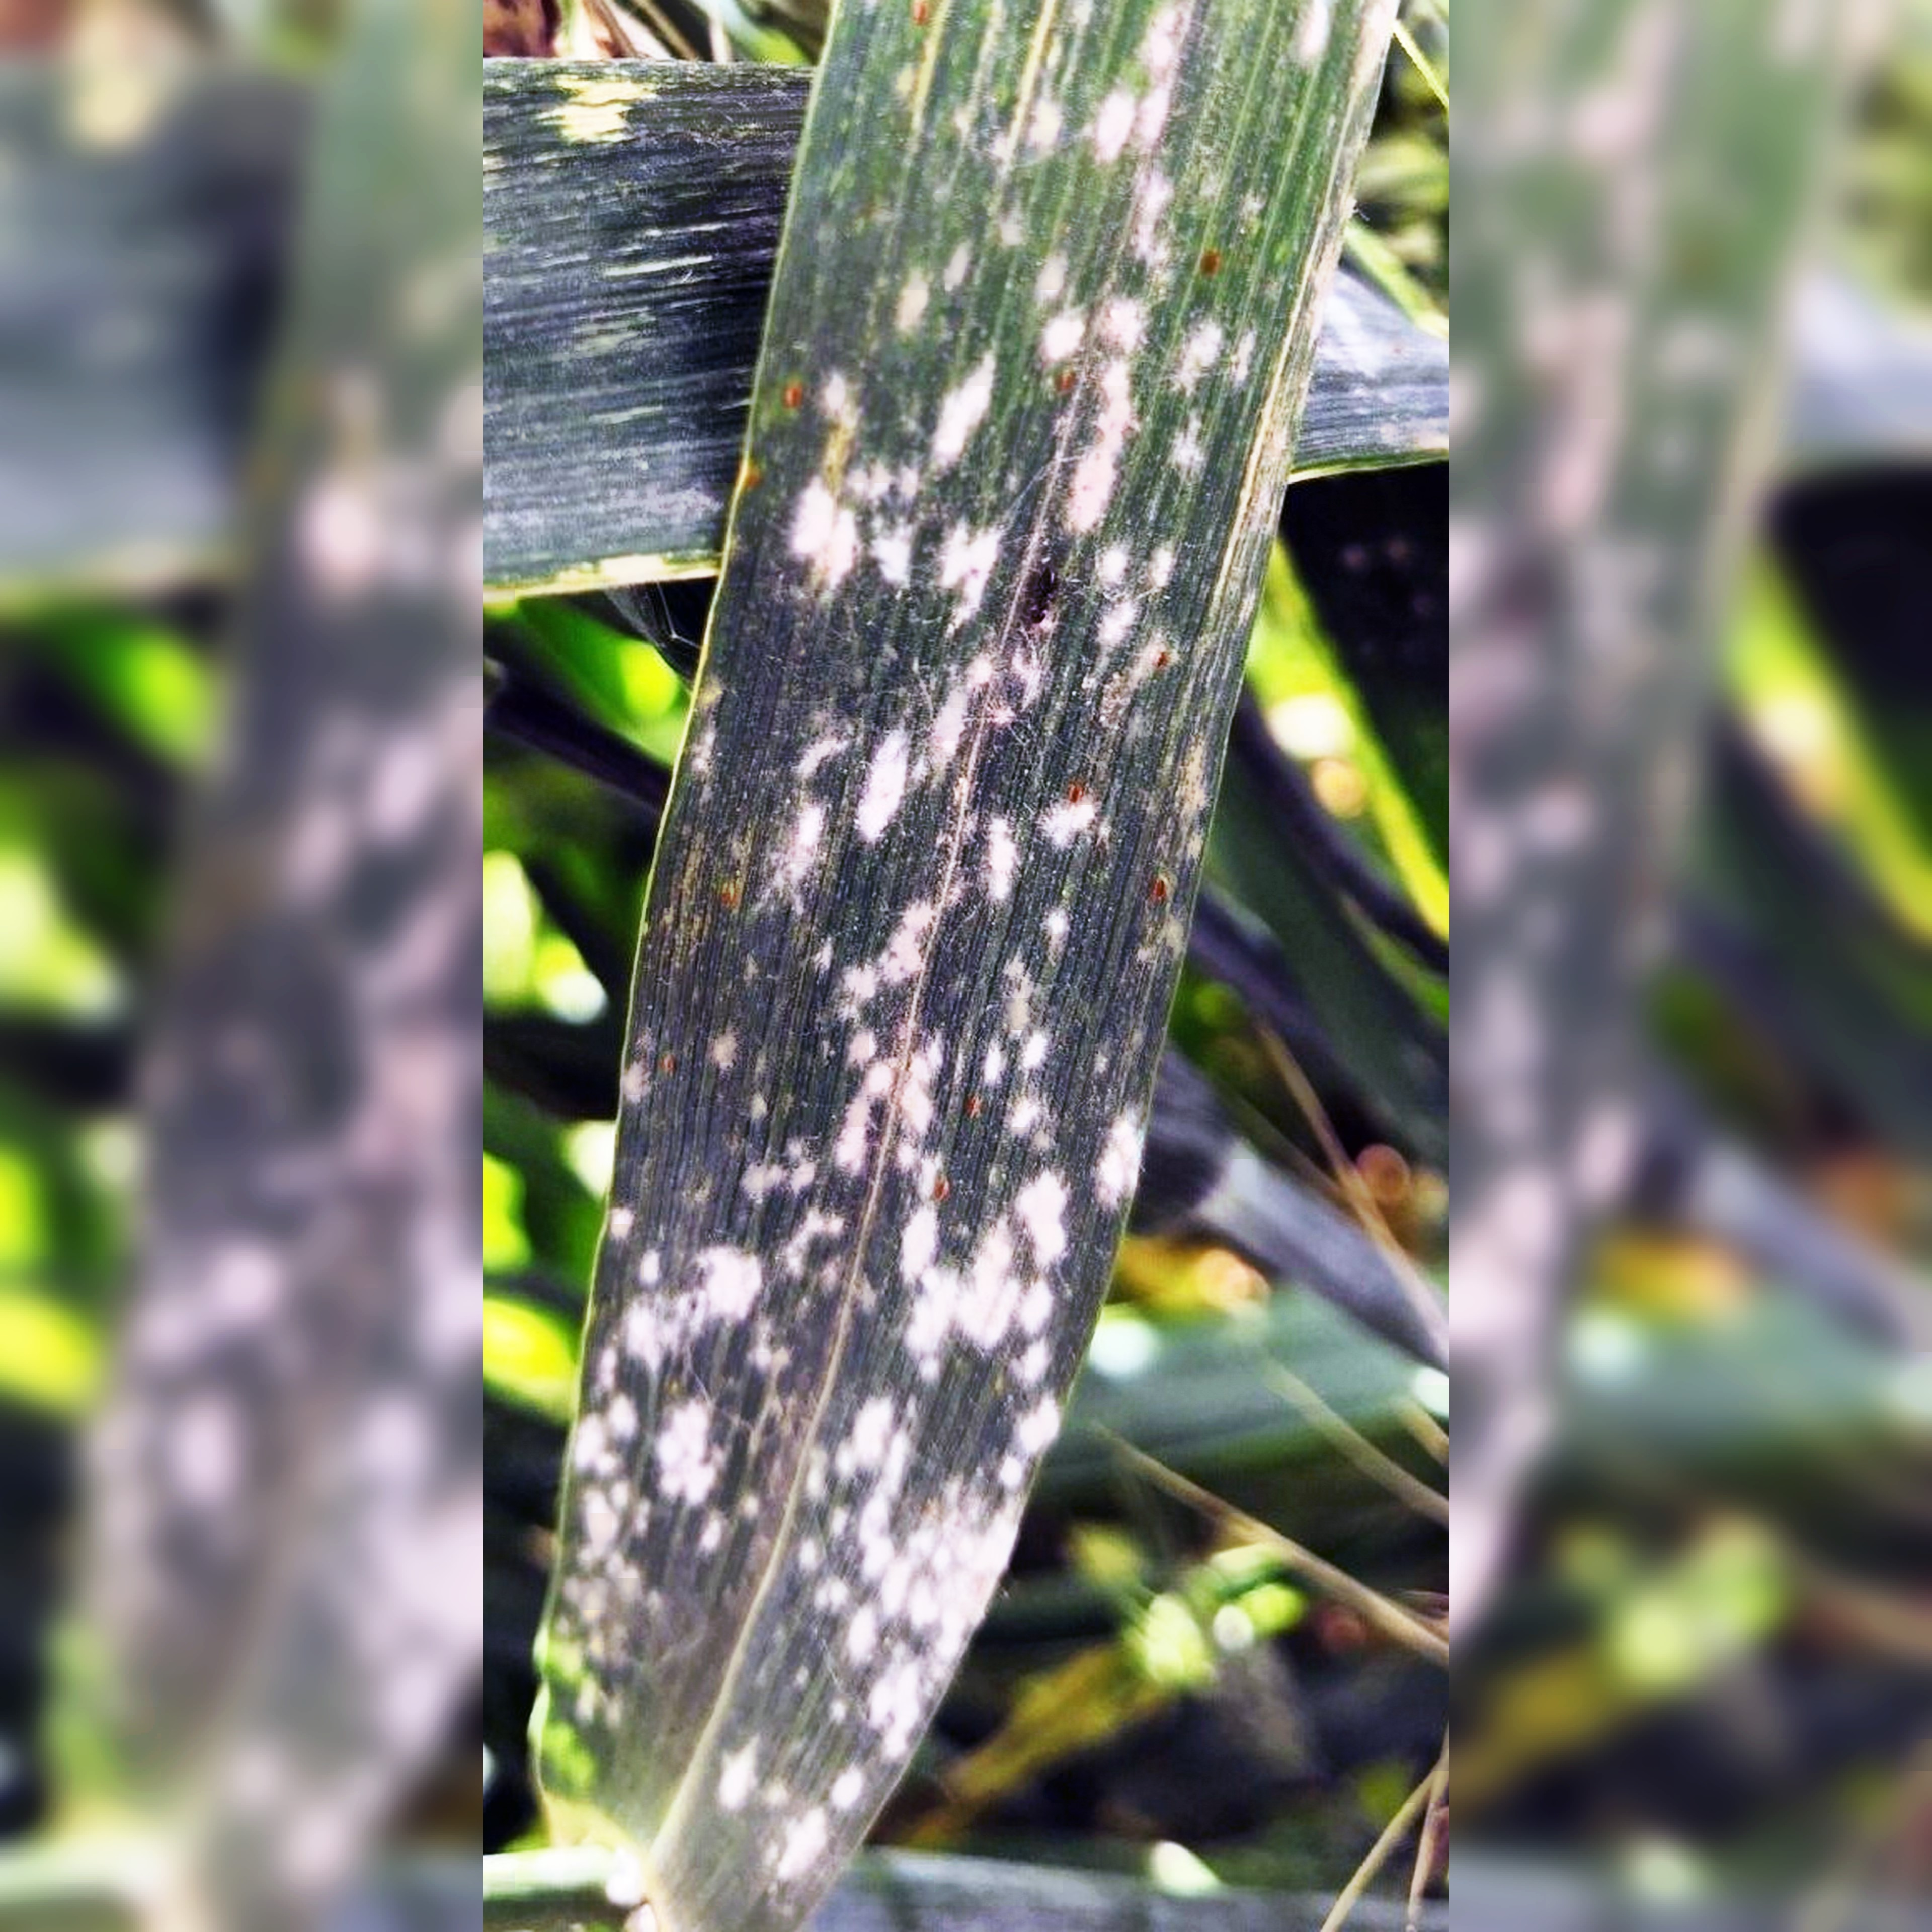Powdery Mildew: (571, 173, 1270, 1750)
